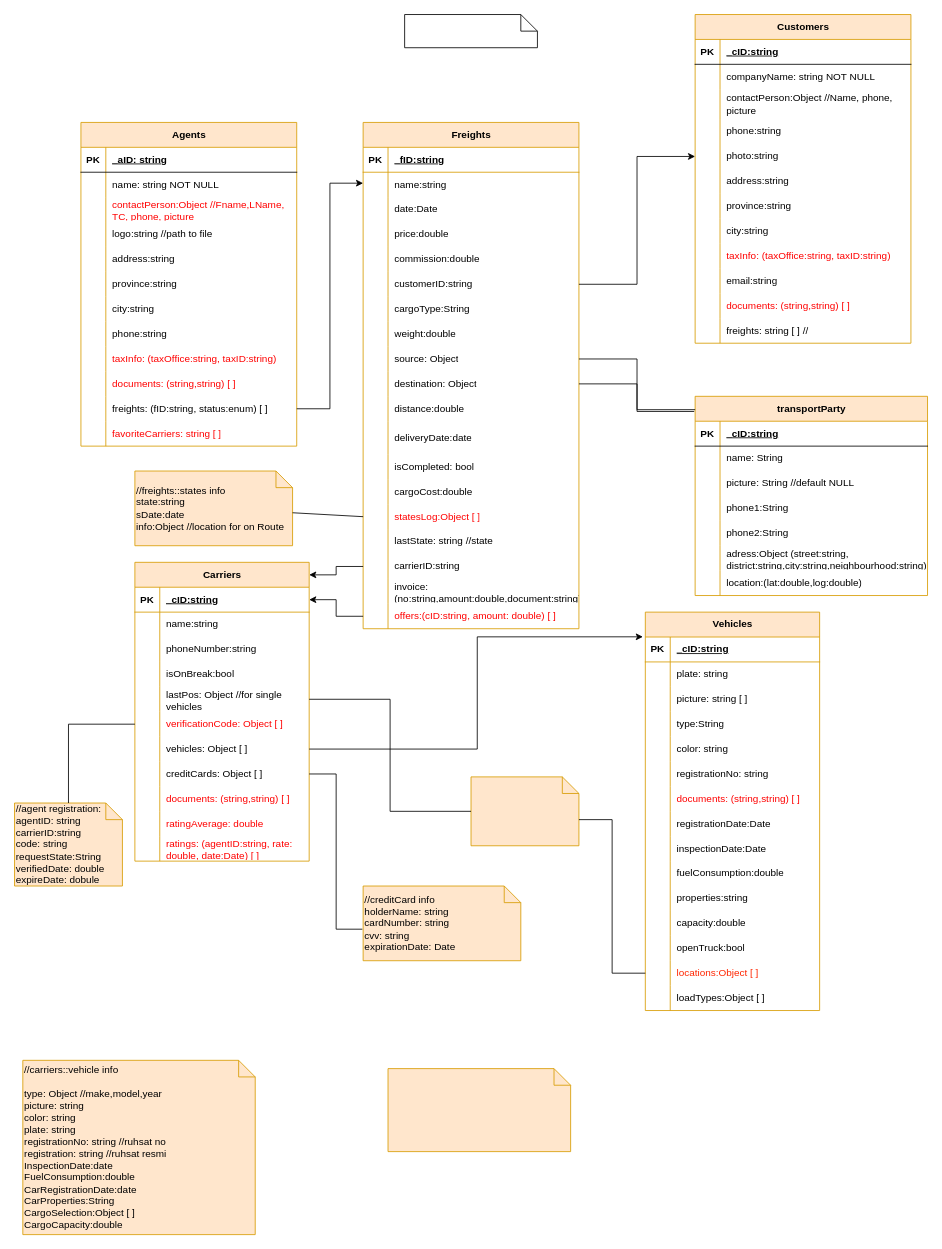
The diagram is 942 pixels wide and 1249 high, and some of its shapes have lost their labels. The shapes that lost their labels are listed below. From the top down, each one's centre as x and y in pixels, then its label:
At (x=470, y=31): "Logistics app cepNak v1.2".
At (x=524, y=811): "// location info: latitude:double longitude:double date:Date".
At (x=479, y=1110): "SYSTEM SETTINGS: loadTypes: string [ ] freightStates: string [ ]".
